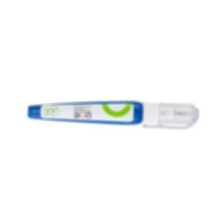correction_fluid: (25, 97, 202, 133)
